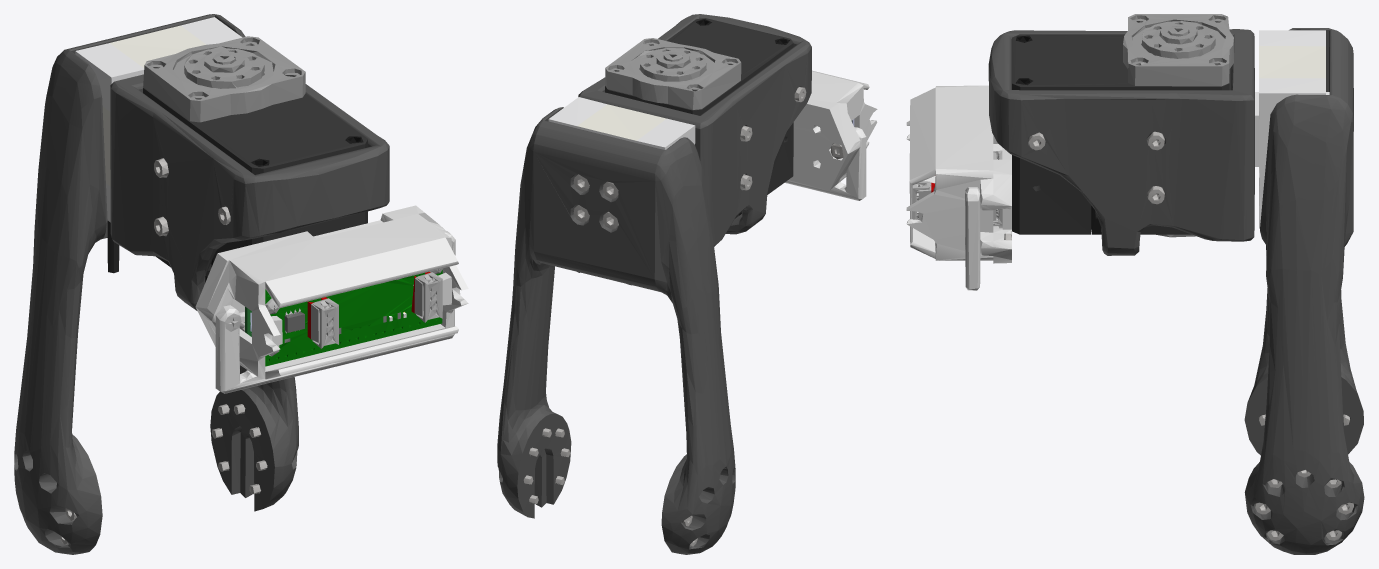
File: link_leg_0_R_1.obj
3 renders of one model, left to right at view 1: azimuth 30°, elevation 25°; view 2: azimuth 150°, elevation 25°; view 3: azimuth 270°, elevation 25°, orthographic. The views are drawn at different scales.
Parts seen in each view (by area): view 1: link_leg_0_R_1; view 2: link_leg_0_R_1; view 3: link_leg_0_R_1.
Boxes of the visible parts, left/top/right/bottom form: link_leg_0_R_1: left=14, top=14, right=468, bottom=554; link_leg_0_R_1: left=497, top=14, right=877, bottom=554; link_leg_0_R_1: left=906, top=14, right=1364, bottom=554.
Size of the model in its own units: 74.4 by 142 by 123.
